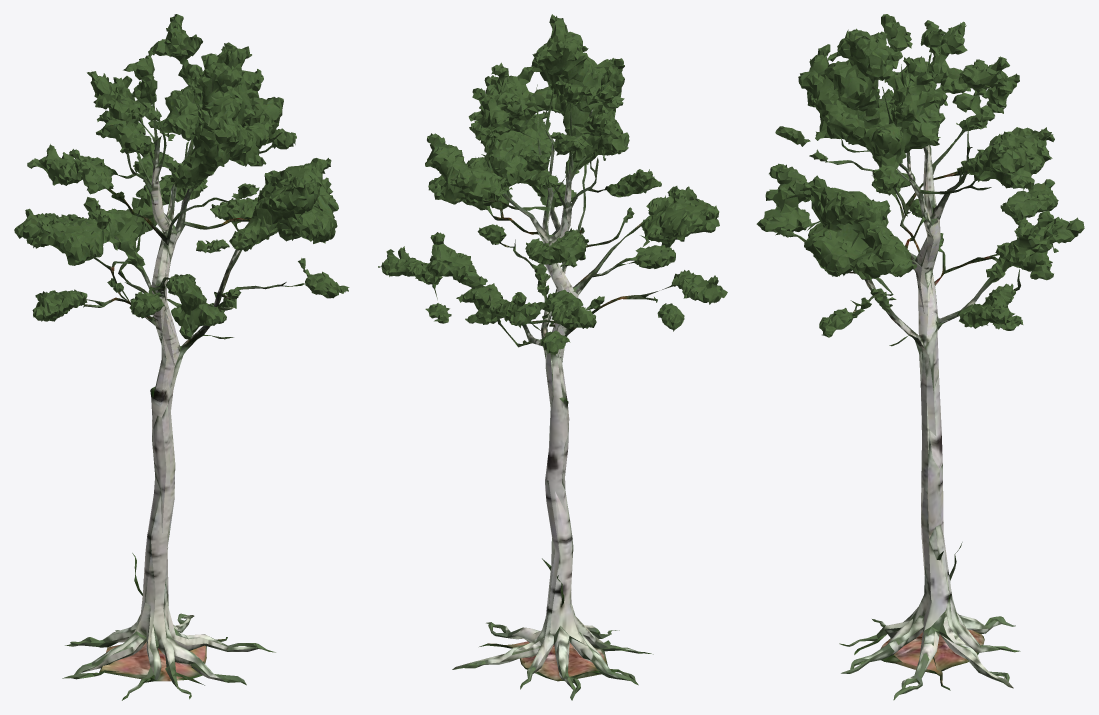
The model's file is tree-birch-b.glb.
3 renders of one model, left to right at view 1: azimuth 30°, elevation 25°; view 2: azimuth 150°, elevation 25°; view 3: azimuth 270°, elevation 25°, orthographic. The views are drawn at different scales.
Parts seen in each view (by area): view 1: output_unwrapped; view 2: output_unwrapped; view 3: output_unwrapped.
Part boxes in pixels (left/top/right/bottom): output_unwrapped: left=14, top=14, right=349, bottom=700; output_unwrapped: left=378, top=14, right=727, bottom=700; output_unwrapped: left=756, top=14, right=1084, bottom=700.
Size of the model in its own units: 5.02 by 9.98 by 4.61.
1 material, 1 textured.
